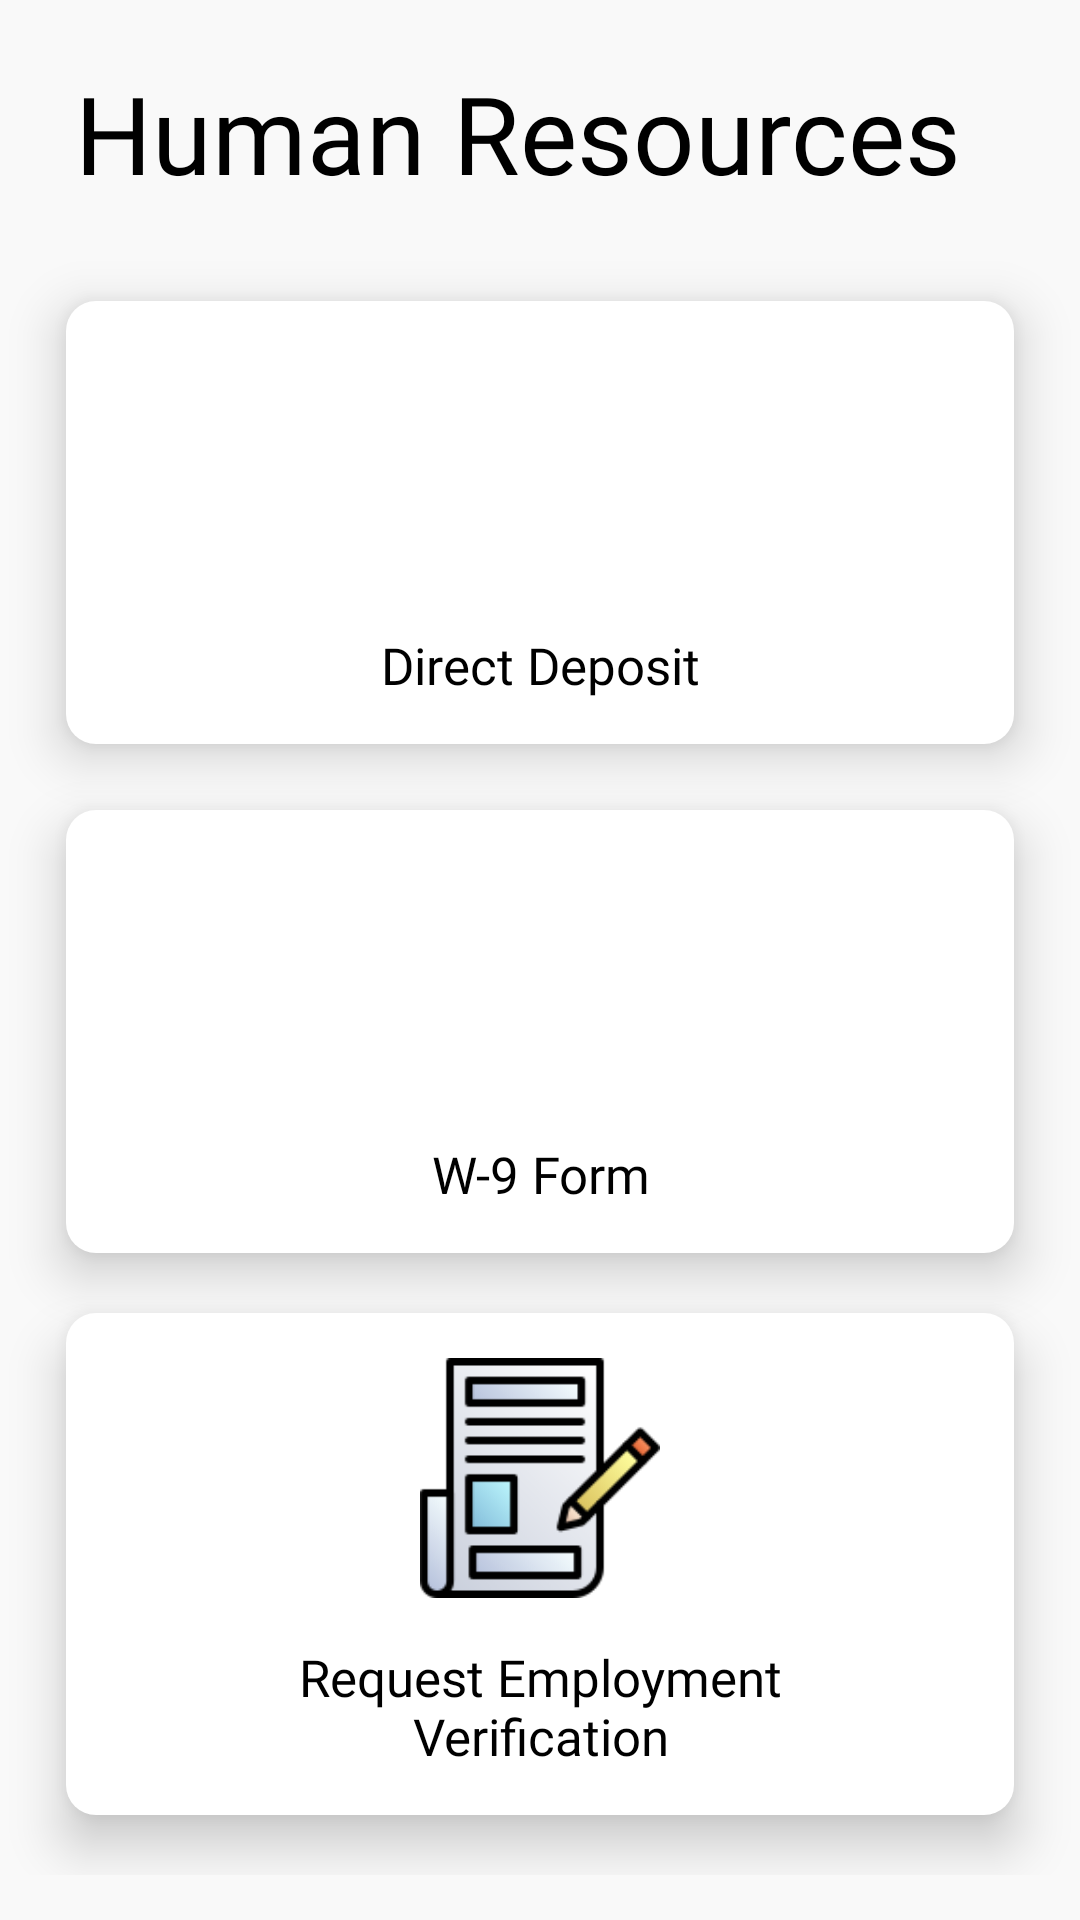

Screen size 1080×1920. Icon name, then its box in pixels as (x1, y1, x2, y2):
checklist request: (420, 1358, 660, 1598)
